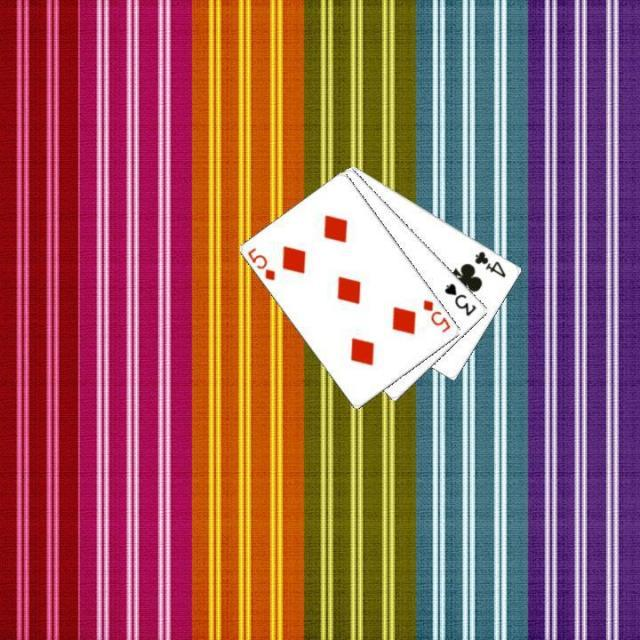3S: (441, 279, 478, 318)
4C: (471, 247, 509, 279)
5D: (244, 244, 278, 282), (420, 296, 452, 334)
